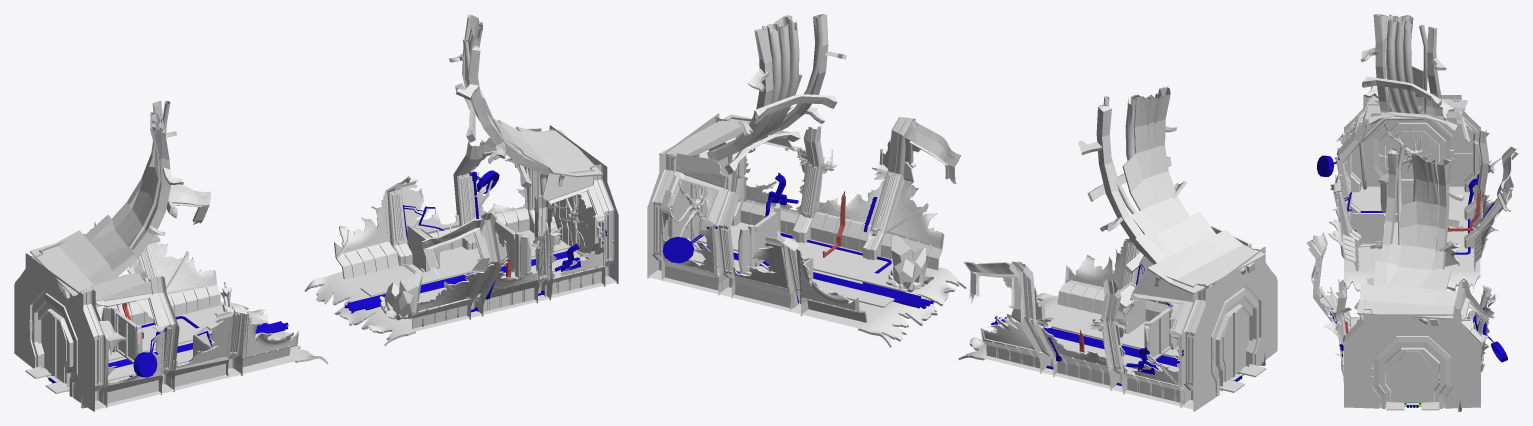
Rendered from DestroyedShip_Optimized_Edited_1.fbx.
3 renders of one model, left to right at view 1: azimuth 30°, elevation 25°; view 2: azimuth 150°, elevation 25°; view 3: azimuth 270°, elevation 25°, orthographic. The views are drawn at different scales.
Visible parts, largest first — view 1: Panel.015, Ceiling.005, Panel.006, Door.001, Ceiling.001, Pillar6.000, Panel.002, Panel.016, Pillar6.002, Floor.005, Plane, Pillar6.001 (+13 smaller); view 2: Ceiling.005, Panel.015, Panel.006, Ceiling.001, Door.001, Pillar6.000, Panel.016, Pillar6.002, Panel.002, Floor.005, Plane, Floor.004 (+16 smaller); view 3: Door.003, Ceiling.001, Ceiling.005, Door.001, Pillar6.002, Floor.001, Panel.006, Panel.015, Pillar6.000, Pillar6.003, Ceiling.002, Panel.002 (+13 smaller).
Boxes of the visible parts, <box> form: Panel.015: <box>334,128,606,311</box>; Ceiling.005: <box>30,101,183,298</box>; Panel.006: <box>39,234,298,404</box>; Door.001: <box>14,253,94,411</box>; Ceiling.001: <box>449,14,602,188</box>; Pillar6.000: <box>385,140,552,319</box>; Panel.002: <box>148,185,220,316</box>; Panel.016: <box>412,218,489,328</box>; Pillar6.002: <box>85,222,247,394</box>; Floor.005: <box>336,230,616,331</box>; Plane: <box>304,273,415,346</box>; Pillar6.001: <box>527,126,617,286</box>; Ceiling.005: <box>1078,86,1265,294</box>; Panel.015: <box>660,116,890,322</box>; Panel.006: <box>1032,226,1248,404</box>; Ceiling.001: <box>659,14,846,173</box>; Door.001: <box>1194,246,1277,411</box>; Pillar6.000: <box>714,117,915,316</box>; Panel.016: <box>880,120,961,270</box>; Pillar6.002: <box>1009,238,1139,394</box>; Panel.002: <box>963,261,1044,369</box>; Floor.005: <box>648,222,940,328</box>; Plane: <box>858,267,966,347</box>; Floor.004: <box>689,235,907,307</box>; Door.003: <box>1344,314,1480,409</box>; Ceiling.001: <box>1357,148,1464,325</box>; Ceiling.005: <box>1360,14,1467,131</box>; Door.001: <box>1352,95,1473,187</box>; Pillar6.002: <box>1333,122,1518,248</box>; Floor.001: <box>1344,186,1480,271</box>; Panel.006: <box>1328,97,1505,271</box>; Panel.015: <box>1314,264,1496,382</box>; Pillar6.000: <box>1306,239,1491,376</box>; Pillar6.003: <box>1344,95,1480,192</box>; Ceiling.002: <box>1359,25,1427,189</box>; Panel.002: <box>1473,152,1514,271</box>.
Bounding box in the file's own units: 5538 × 2492 × 2156.
